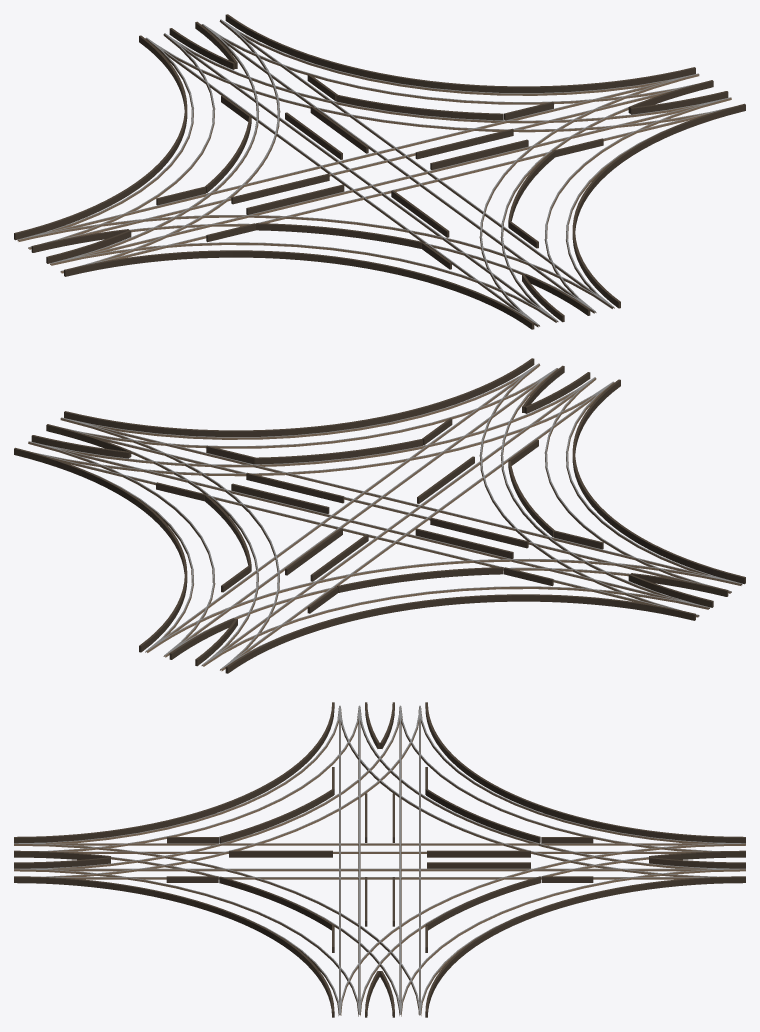
File: SW_ENV_TrackJunction_EL_04_Collision.fbx
3 views of the same model, one above another, from view 1: azimuth 30°, elevation 25°; view 2: azimuth 150°, elevation 25°; view 3: azimuth 270°, elevation 25° (orthographic). The views are drawn at different scales.
Parts seen in each view (by area): view 1: SW_ENV_TrackJunction_EL_04_Collision; view 2: SW_ENV_TrackJunction_EL_04_Collision; view 3: SW_ENV_TrackJunction_EL_04_Collision.
Boxes of the visible parts, <box> form: SW_ENV_TrackJunction_EL_04_Collision: <box>14,14,745,329</box>; SW_ENV_TrackJunction_EL_04_Collision: <box>14,358,745,673</box>; SW_ENV_TrackJunction_EL_04_Collision: <box>14,702,745,1017</box>.
Bounding box in the file's own units: 5450 × 47.72 × 5450.
